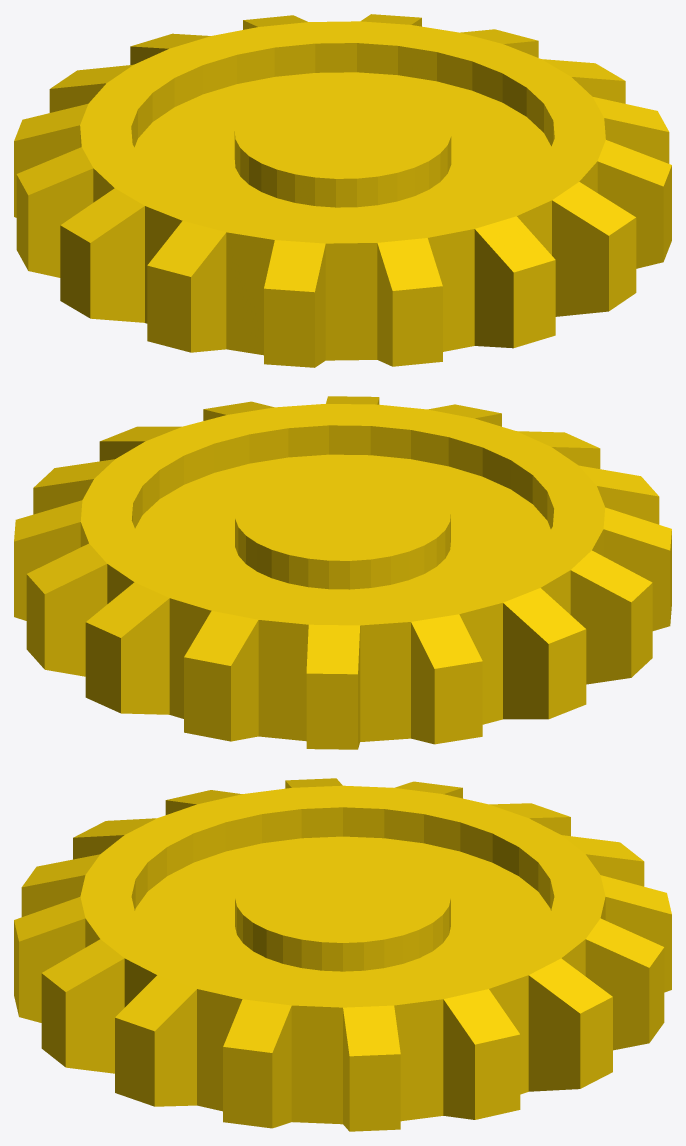
Rendered from gearA.fbx.
3 renders of one model, top to bottom at view 1: azimuth 30°, elevation 25°; view 2: azimuth 150°, elevation 25°; view 3: azimuth 270°, elevation 25°, orthographic.
Visible parts, largest first — view 1: gearA; view 2: gearA; view 3: gearA.
Boxes of the visible parts, box(x1,y1,x2,y2) form: gearA: box(14, 14, 671, 367); gearA: box(14, 396, 671, 749); gearA: box(14, 778, 671, 1131).
Bounding box in the file's own units: 251 × 49.29 × 251.
